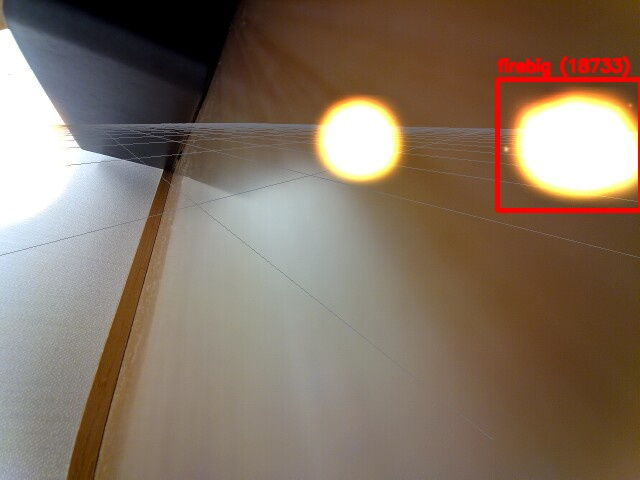firebig: (497, 79, 640, 210)
